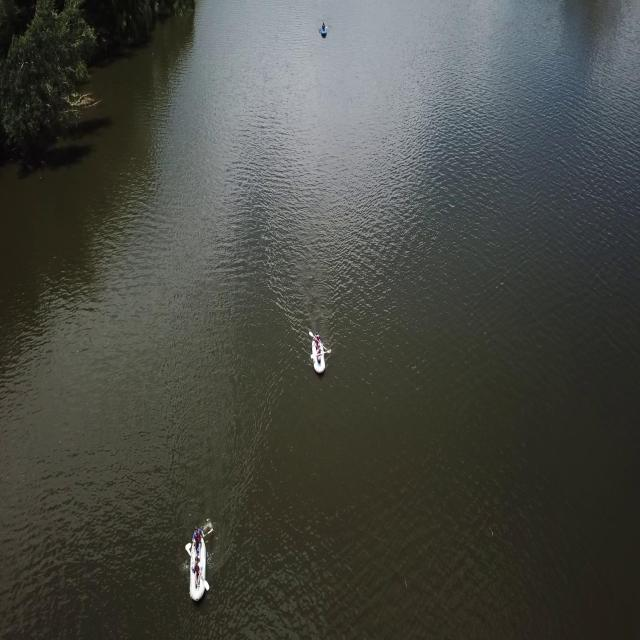kayak: (184, 527, 213, 608), (308, 329, 332, 378), (319, 22, 328, 40)
